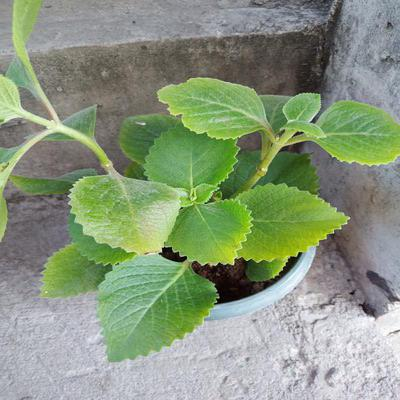Oregano: (54, 96, 366, 357)
